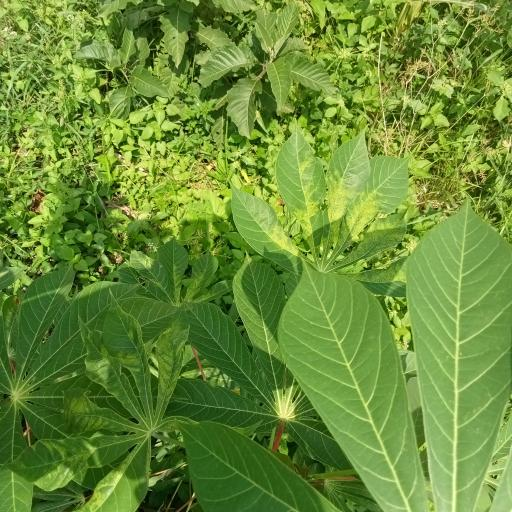Cassava_Healthy: (284, 208, 512, 512), (1, 271, 173, 512), (10, 312, 191, 512), (232, 120, 410, 276)
